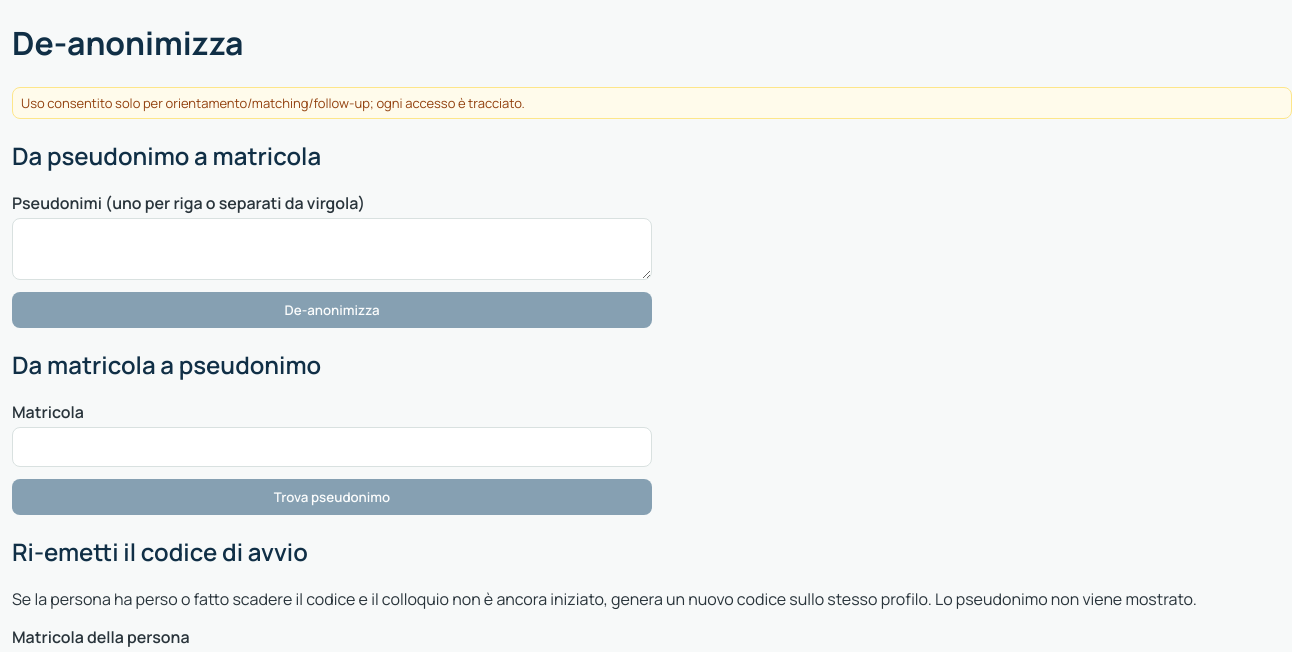
Test: a single matricola resolves to its pseudonym
The width and height of the screenshot is (1292, 652).
Type "MAT-100" into the field labelled "Matricola" at {"x": 332, "y": 447}, box [12,427,652,467]
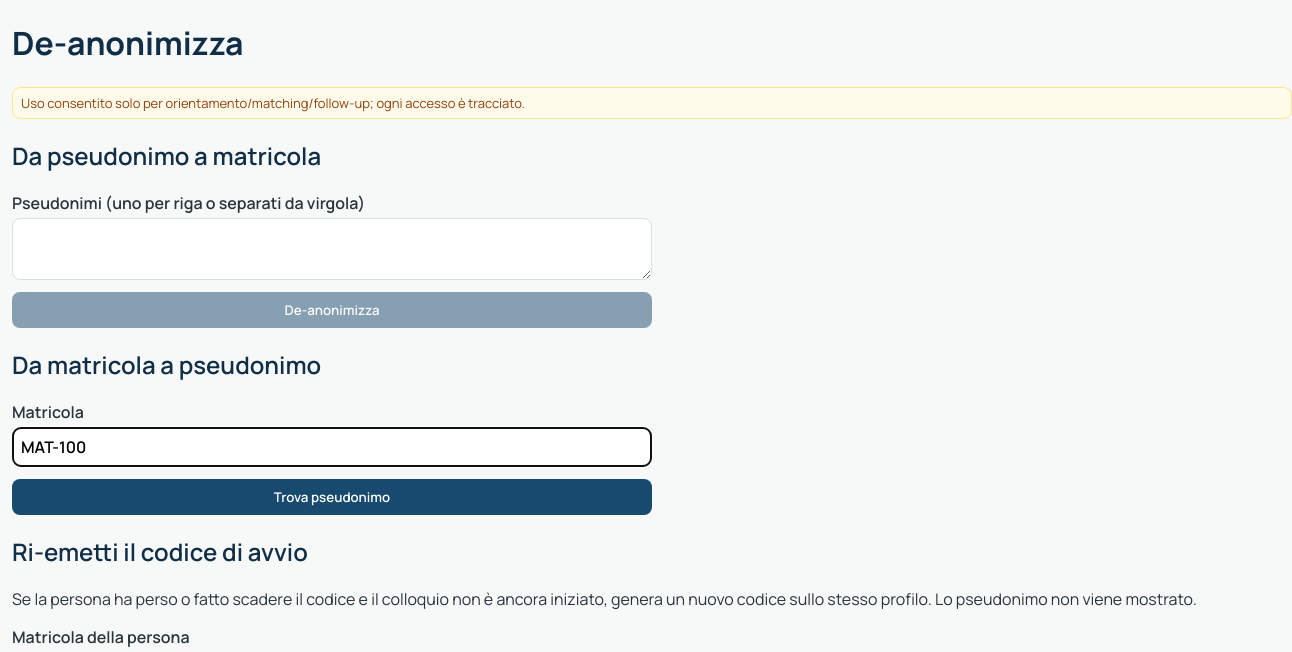
Click the button "Trova pseudonimo" at {"x": 332, "y": 497}, box [12,479,652,515]
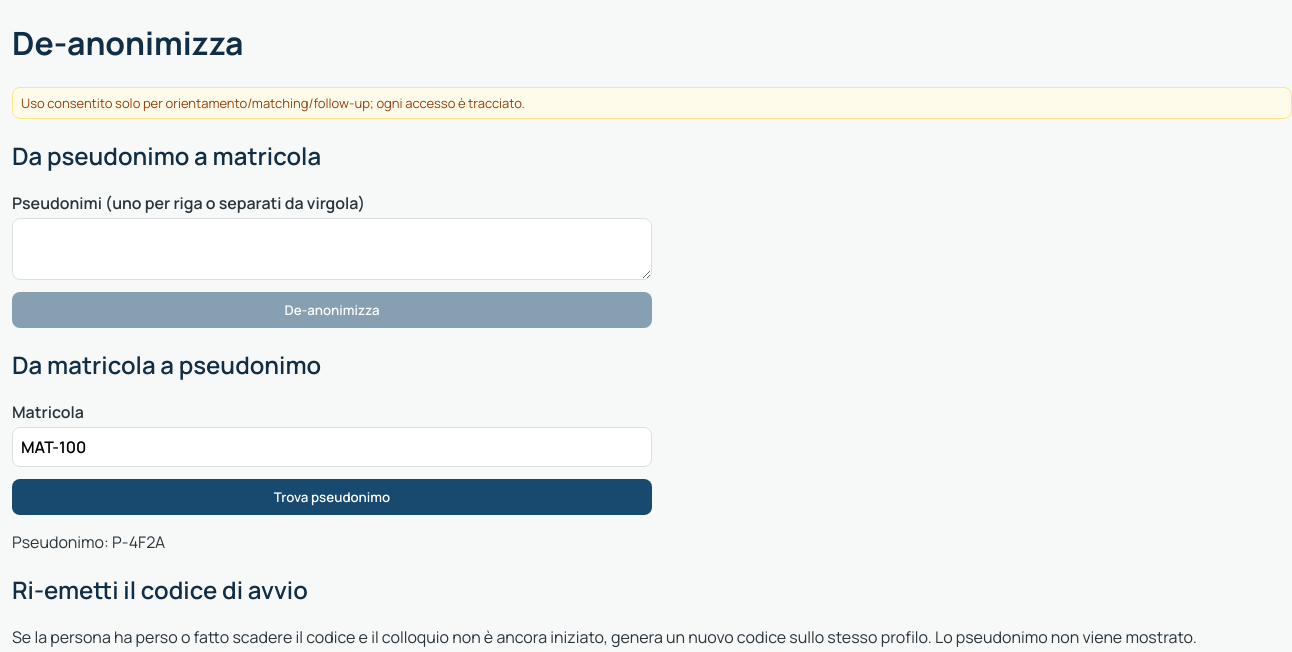
Expected: the text "Pseudonimo: P-4F2A" is shown, [12,531,165,553]
